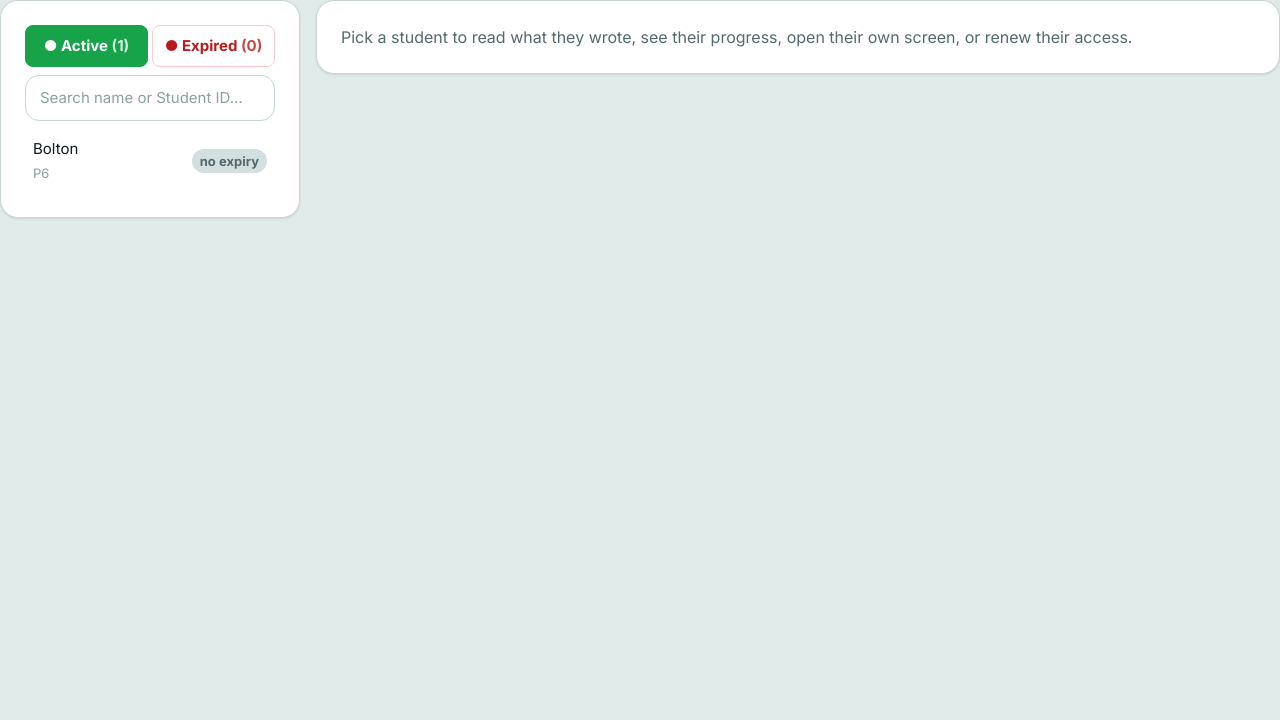
Students · tapping a student › still offers the scoreboard, one press away
This screenshot has width=1280, height=720.
Click the text "Bolton": (56, 148) top-left (33, 139), bottom-right (78, 158)
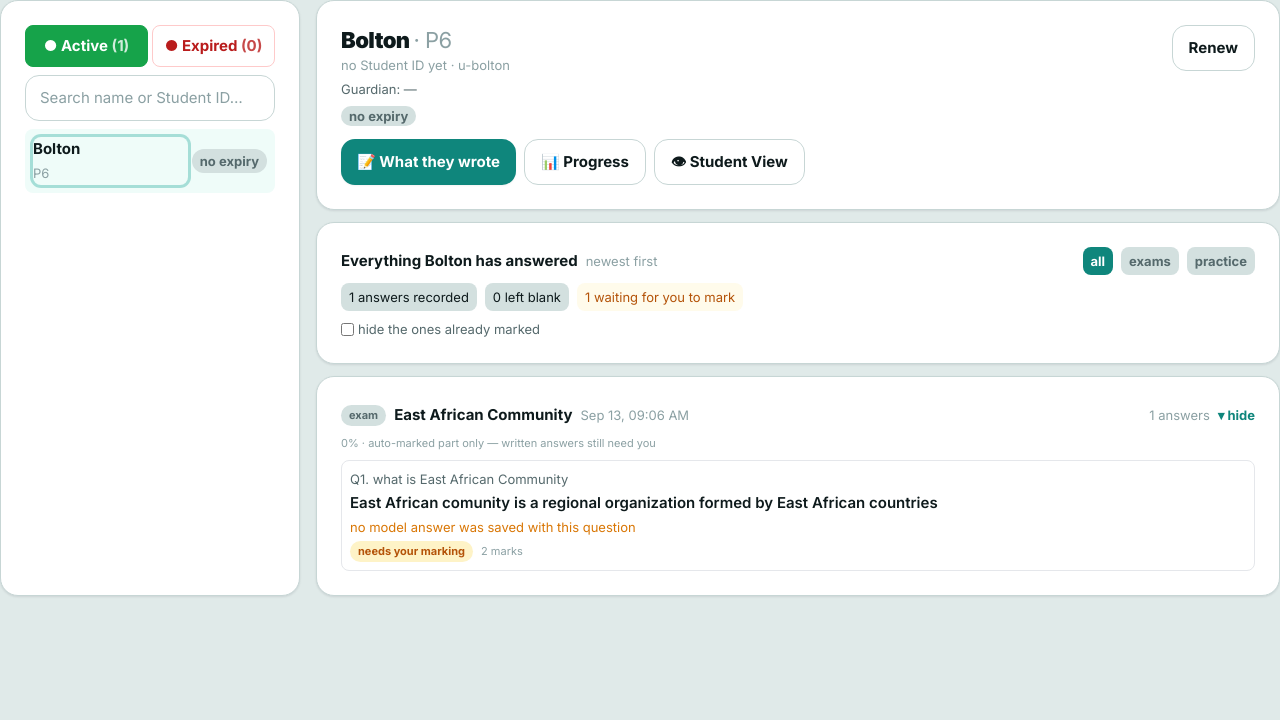
expect the text "Everything Bolton has answered" is shown: met, box top-left (341, 249), bottom-right (578, 273)
Click the button "📊 Progress": (585, 162) top-left (524, 139), bottom-right (646, 185)
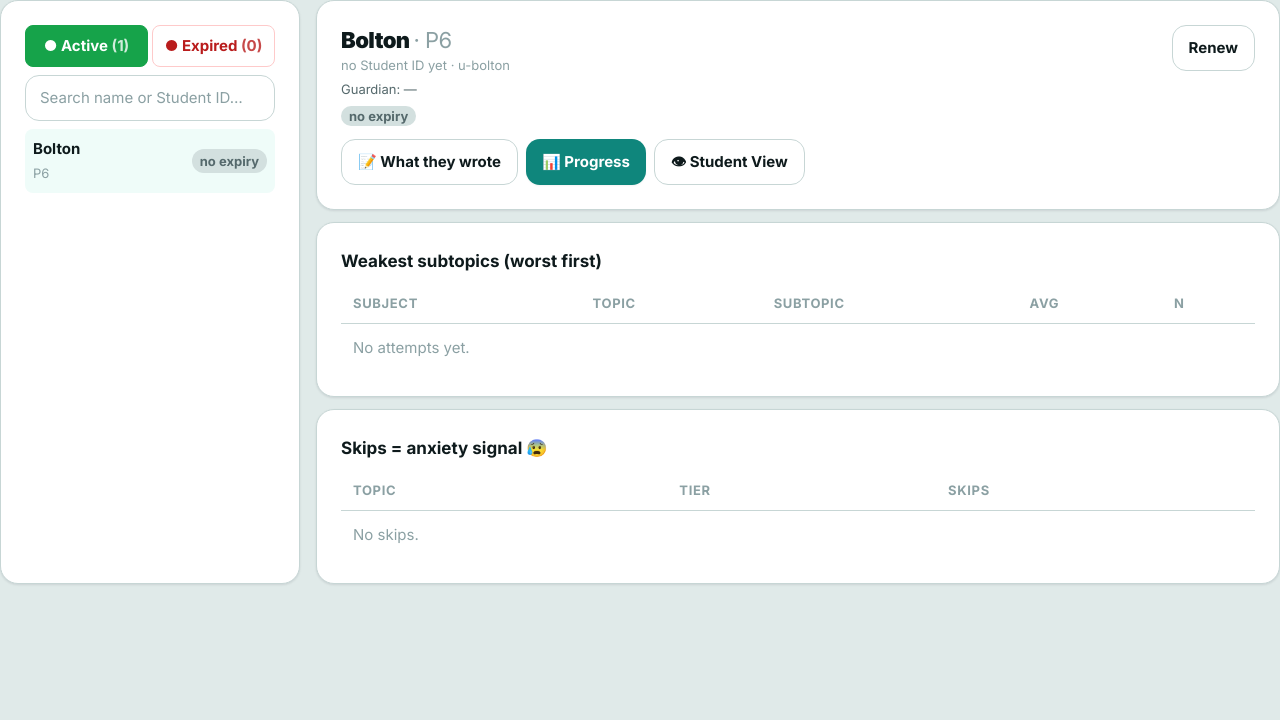
expect the heading "Weakest subtopics (worst first)" is shown: met, box top-left (341, 251), bottom-right (602, 271)
